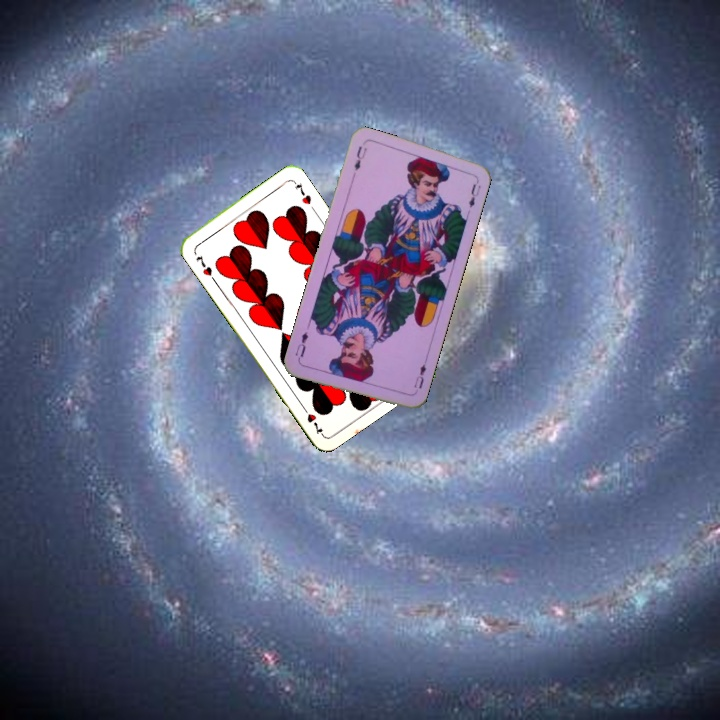EU: (410, 360, 429, 392), (350, 142, 369, 173)
H7: (192, 251, 215, 279)
